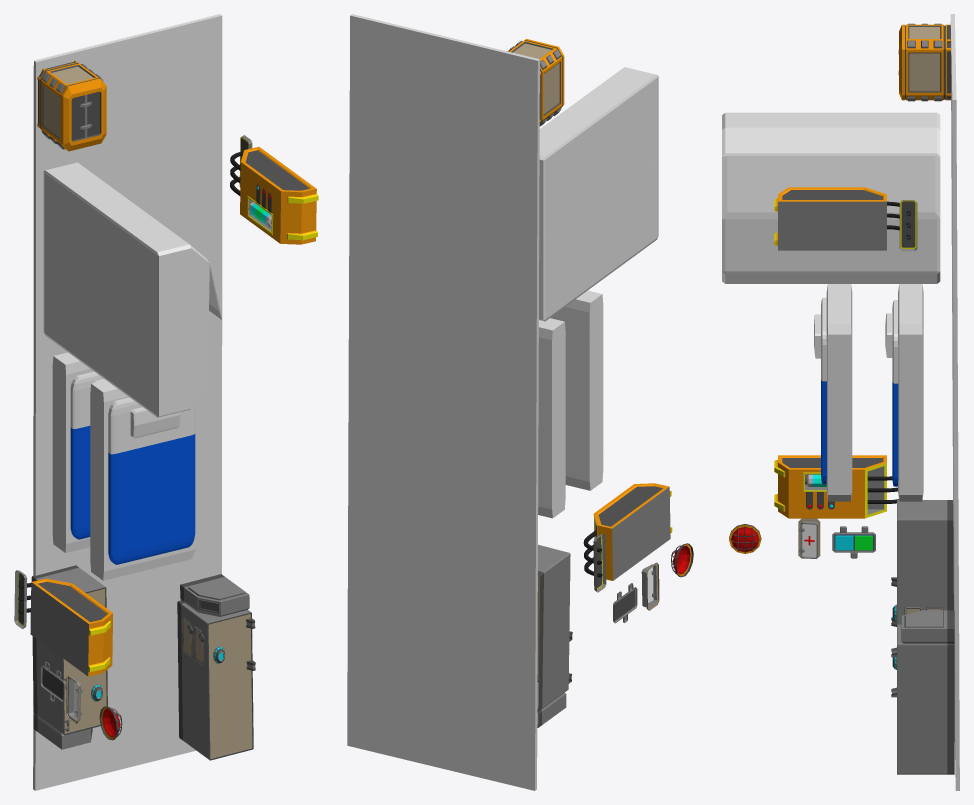
Rendered from stanza letti.fbx.
3 renders of one model, left to right at view 1: azimuth 30°, elevation 25°; view 2: azimuth 150°, elevation 25°; view 3: azimuth 270°, elevation 25°, orthographic. The views are drawn at different scales.
Parts seen in each view (by area): view 1: Cubo.005, Cube.011, Workbench00.001, Cube.008, FuseBox00.001, FuseBox00.002, Workbench00.002, Cube.007, Crate00.002, Cube.009, Cube.010, Cube.012 (+3 smaller); view 2: Cubo.005, Cube.011, Cube.007, FuseBox00.001, Workbench00.002, Cube.009, Crate00.002, FirstAidKit00.001, DoorPanel00.001, AlarmLamp00.001; view 3: Cube.011, Workbench00.001, FuseBox00.002, Workbench00.002, FuseBox00.001, Cube.007, Cube.009, Cubo.005, Crate00.002, Cube.010, Cube.008, DoorPanel00.001 (+2 smaller).
Part boxes in pixels (<box>): Cubo.005: <box>33,14,222,790</box>; Cube.011: <box>43,162,221,417</box>; Workbench00.001: <box>177,574,255,760</box>; Cube.008: <box>108,397,195,564</box>; FuseBox00.001: <box>14,570,112,676</box>; FuseBox00.002: <box>230,135,318,244</box>; Workbench00.002: <box>31,565,107,749</box>; Cube.007: <box>90,380,196,580</box>; Crate00.002: <box>37,60,106,151</box>; Cube.009: <box>52,352,93,552</box>; Cube.010: <box>70,371,103,539</box>; Cube.012: <box>130,407,180,438</box>; Cubo.005: <box>347,14,539,790</box>; Cube.011: <box>539,67,658,321</box>; Cube.007: <box>550,290,603,490</box>; FuseBox00.001: <box>583,483,672,592</box>; Workbench00.002: <box>537,544,572,727</box>; Cube.009: <box>538,318,565,518</box>; Crate00.002: <box>507,39,564,126</box>; FirstAidKit00.001: <box>641,562,659,610</box>; DoorPanel00.001: <box>613,583,637,623</box>; AlarmLamp00.001: <box>671,543,693,577</box>; Cube.011: <box>722,112,940,283</box>; Workbench00.001: <box>891,610,954,774</box>; FuseBox00.002: <box>774,187,917,251</box>; Workbench00.002: <box>891,500,953,626</box>; FuseBox00.001: <box>774,455,898,518</box>; Cube.007: <box>826,284,852,501</box>; Cube.009: <box>898,284,923,501</box>; Cubo.005: <box>950,14,959,790</box>; Crate00.002: <box>898,23,951,101</box>; Cube.010: <box>892,300,898,486</box>; Cube.008: <box>821,297,826,484</box>; DoorPanel00.001: <box>832,526,875,558</box>.
Bounding box in the file's own units: 176 × 538 × 168.
